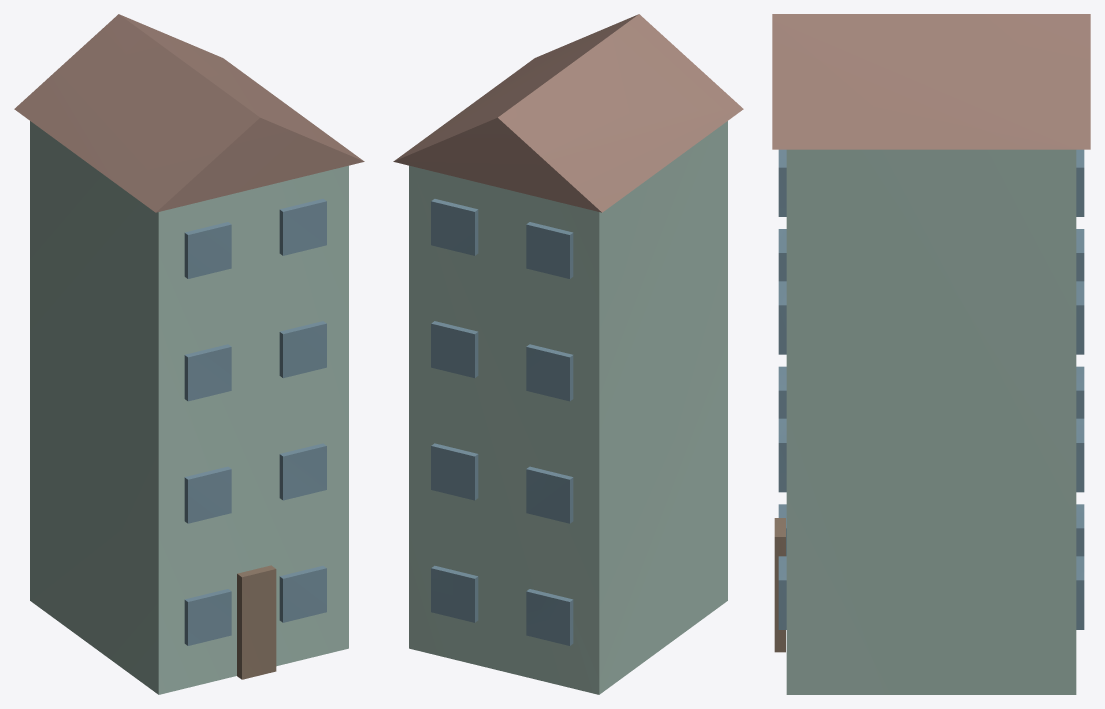
The model's file is townhouse-01.glb.
3 views of the same model, side by side, from view 1: azimuth 30°, elevation 25°; view 2: azimuth 150°, elevation 25°; view 3: azimuth 270°, elevation 25° (orthographic). The views are drawn at different scales.
Visible parts, largest first — view 1: world; view 2: world; view 3: world.
Part boxes in pixels (x1,y1,x2,y2): world: [14, 14, 364, 694]; world: [393, 14, 743, 694]; world: [772, 14, 1090, 694].
Size of the model in its own units: 0.8538 by 2.18 by 1.
